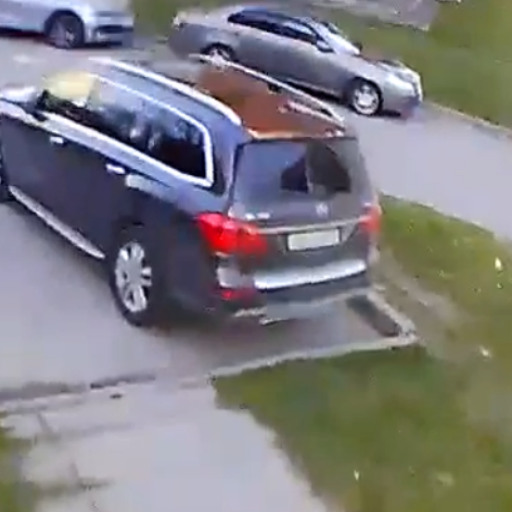Car: (0, 55, 382, 324), (163, 0, 424, 117), (0, 2, 133, 47)
